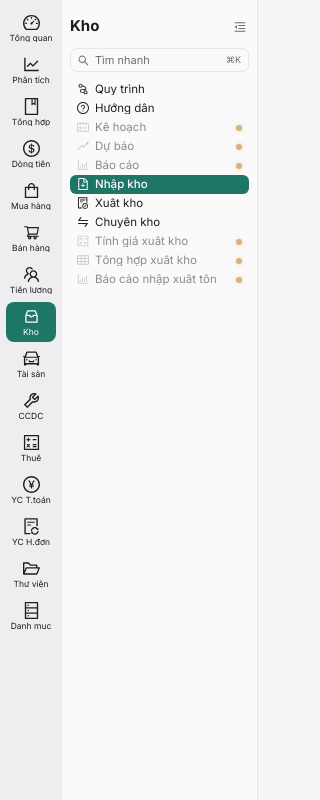
Sidebar › bấm lại phân hệ đang mở thì thu gọn panel
Step 1. Click the button titled "Kho —" → x=31, y=322, box x1=6 y1=302 x2=56 y2=342
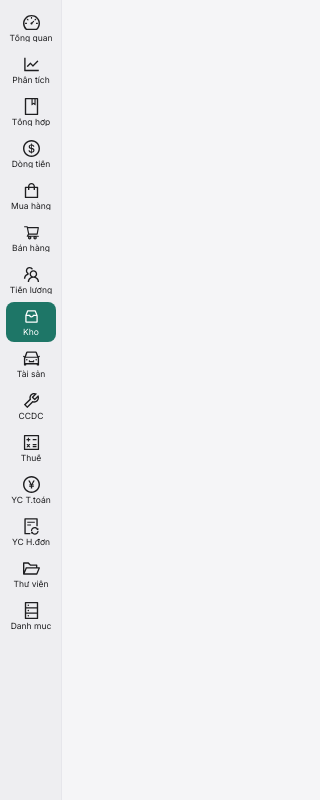
Result: the button "Xuất kho" is gone
